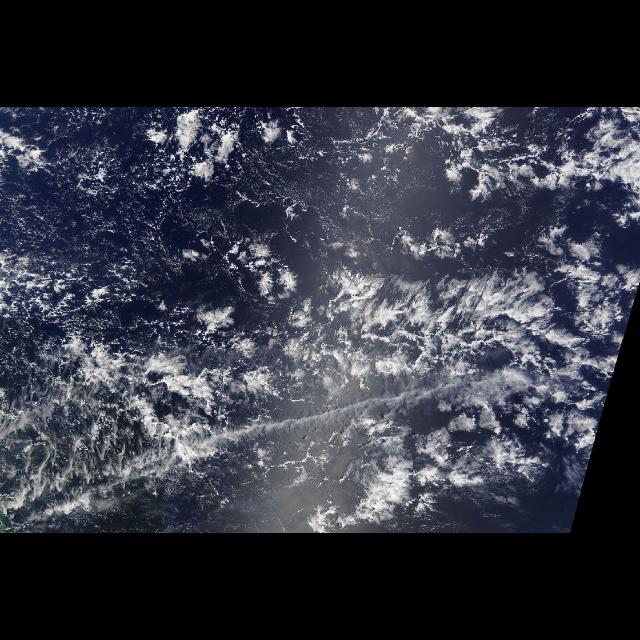Gravel: (130, 108, 560, 276)
Sugar: (1, 108, 355, 324)
